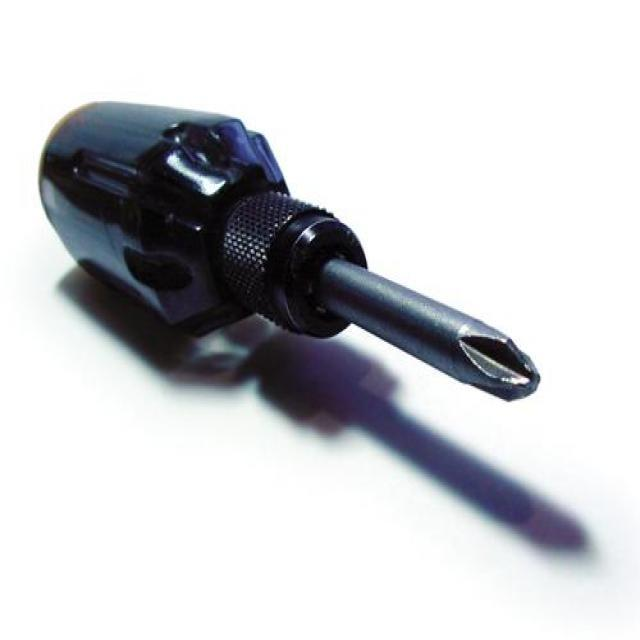screwdriver: (24, 82, 552, 428)
